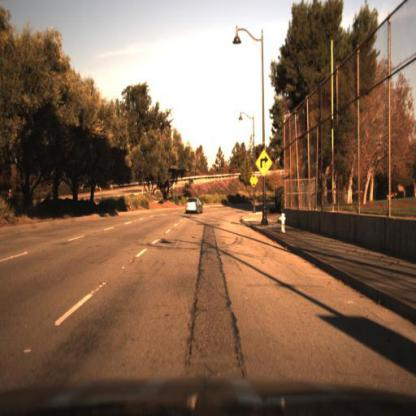car: (186, 194, 205, 217)
